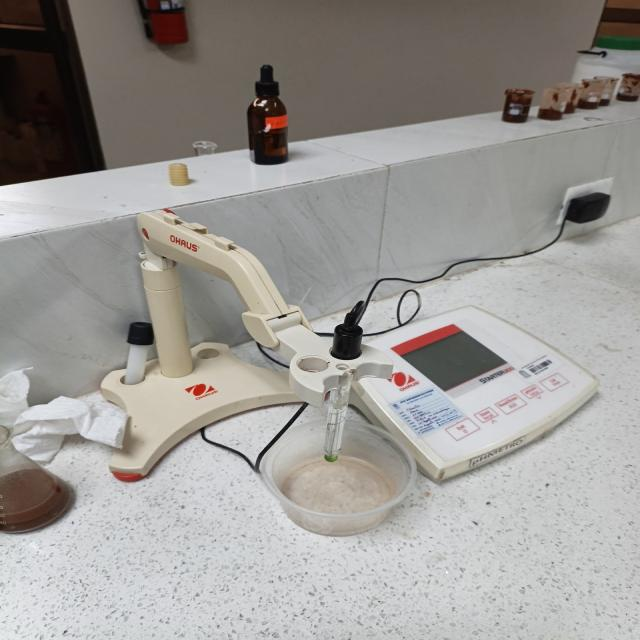Potenciometro - pH-metro Digital de Mesa: (102, 210, 597, 534)
